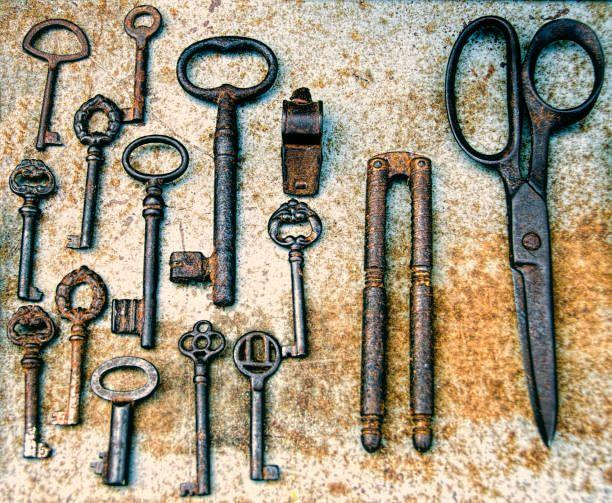metal: (443, 14, 611, 454), (167, 32, 281, 311), (359, 147, 437, 453), (110, 133, 190, 349), (61, 93, 129, 252), (12, 17, 93, 150), (87, 354, 164, 486), (174, 318, 230, 498), (51, 265, 111, 428), (265, 197, 324, 361), (0, 305, 59, 459), (0, 156, 60, 304), (232, 330, 285, 483), (117, 1, 165, 126), (277, 86, 325, 198)
